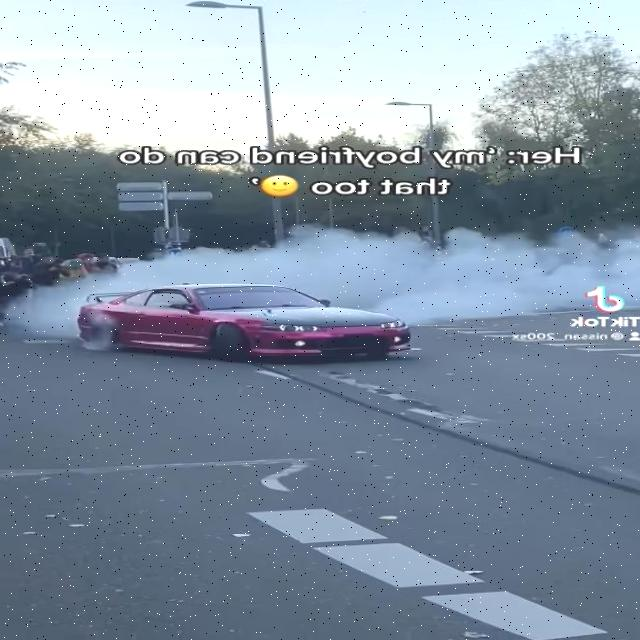car: (69, 281, 416, 365)
